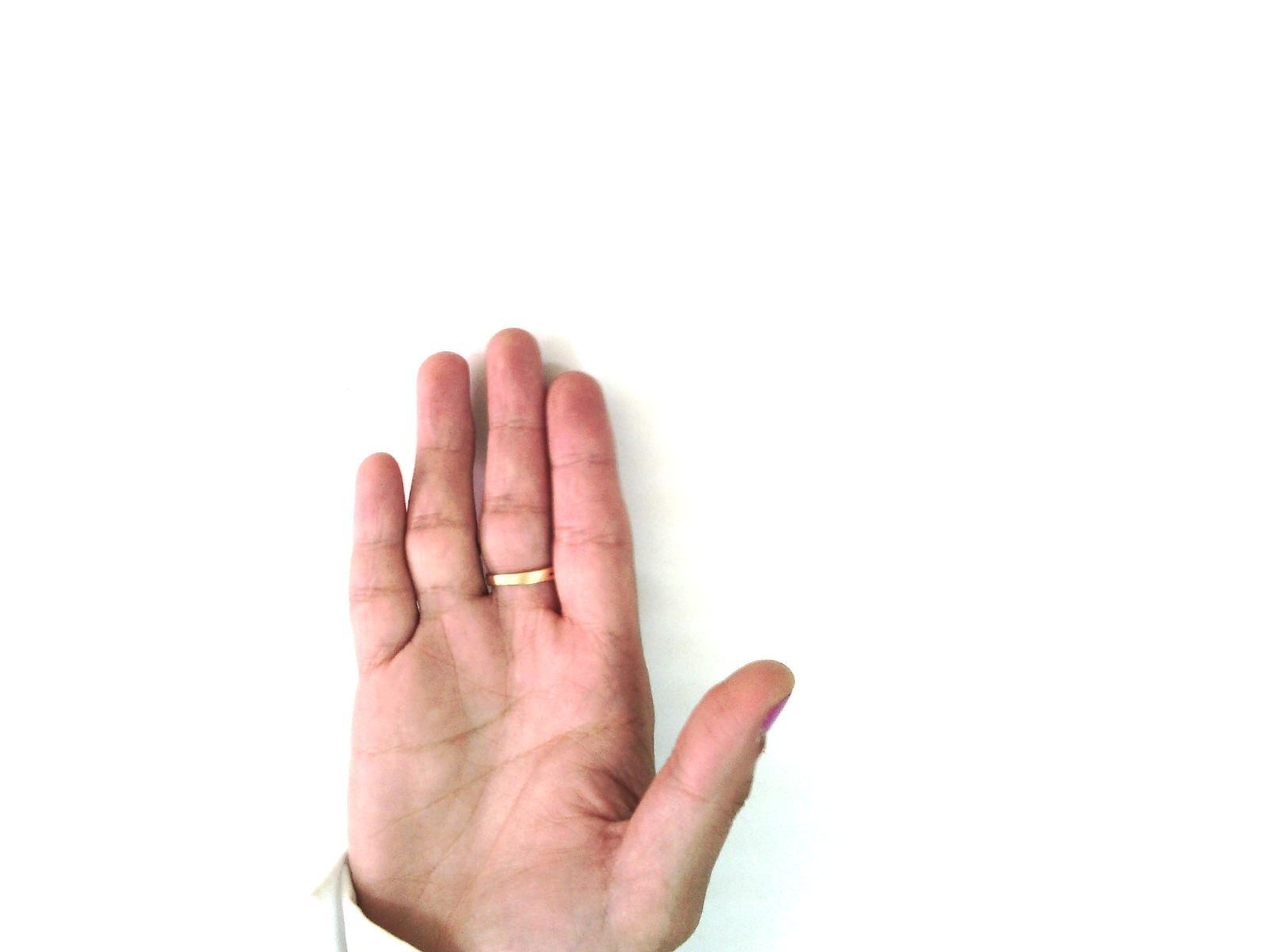open_palm: (337, 327, 797, 951)
